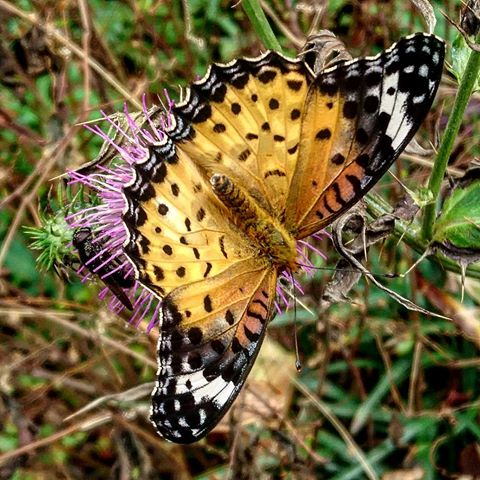Argyreus hyperbius: (113, 29, 443, 448)
butterfly: (115, 31, 445, 450)
